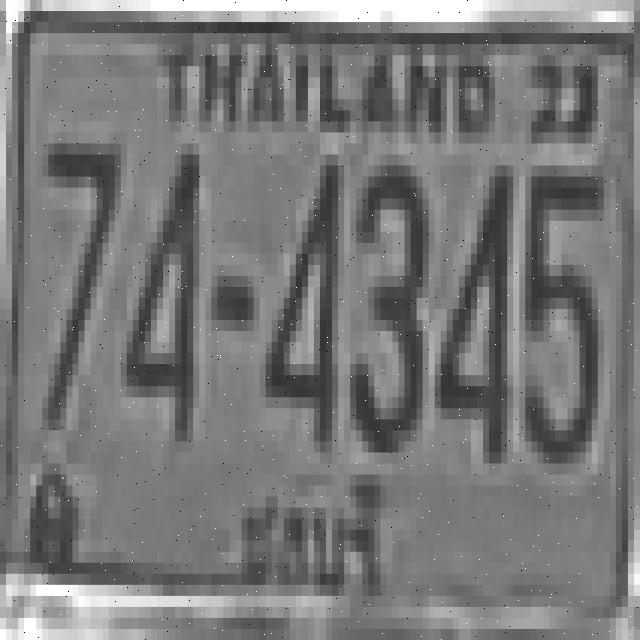3: (350, 154, 422, 442)
4: (260, 154, 338, 442), (121, 144, 199, 430), (435, 154, 507, 452)
5: (520, 165, 598, 452)
7: (42, 133, 114, 420)
Chonburi: (220, 458, 402, 610)
